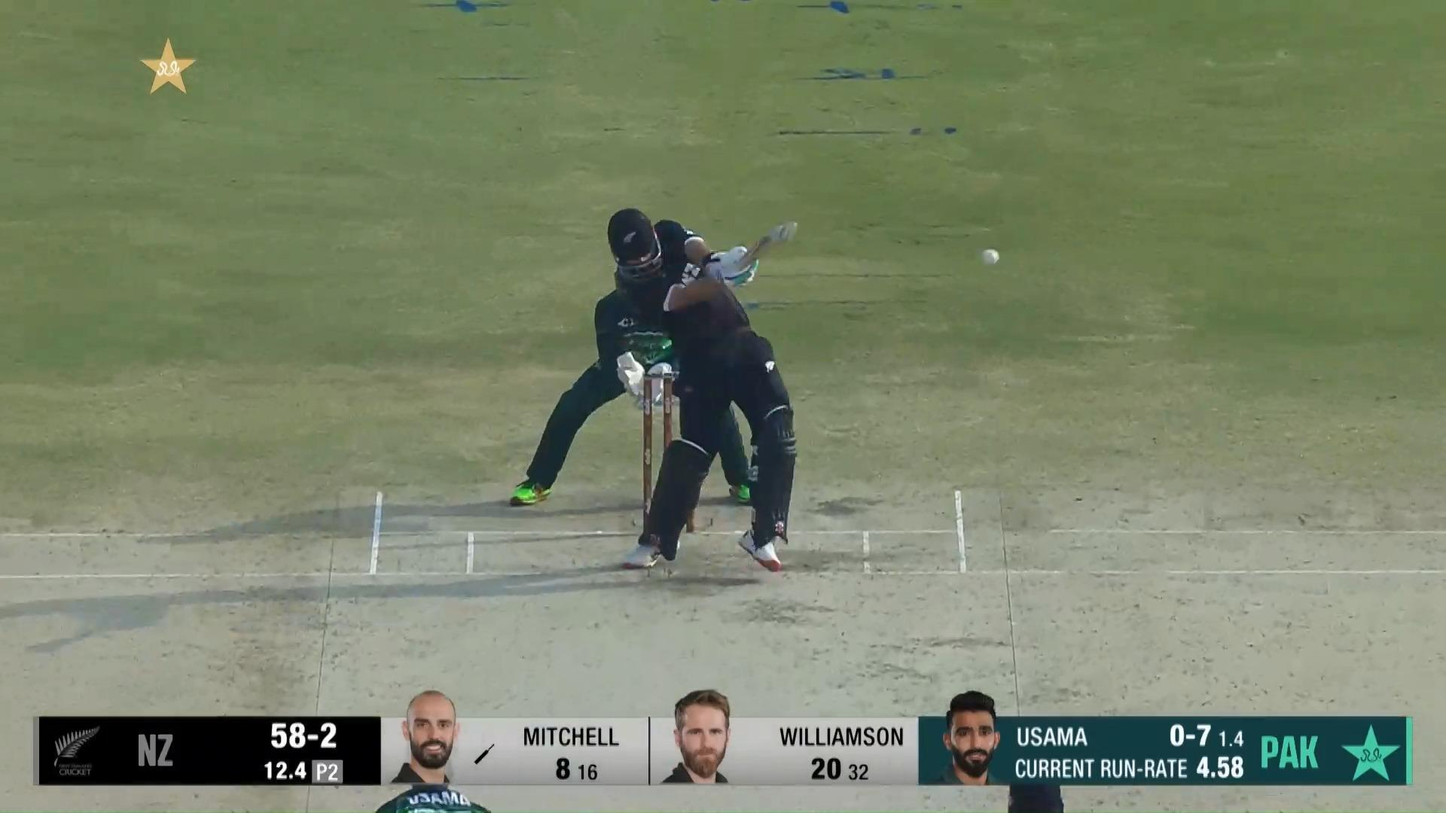BM 1: (606, 207, 802, 574)
BO: (373, 783, 491, 813)
